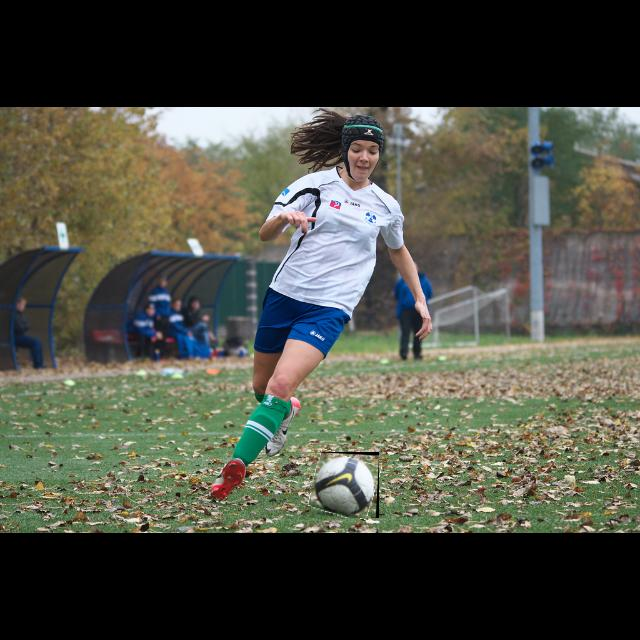Football: (311, 452, 379, 518)
